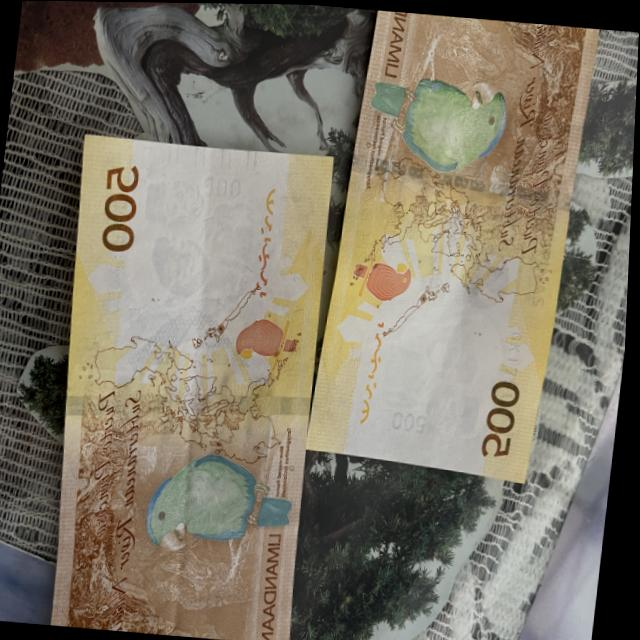500_big_parrot: (150, 442, 301, 561), (363, 56, 512, 172)
500_parrot_watermark: (347, 247, 418, 306), (236, 310, 304, 371)
value_watermark: (201, 168, 246, 207), (390, 399, 435, 435)
watermark: (130, 147, 258, 311), (385, 294, 511, 443)
